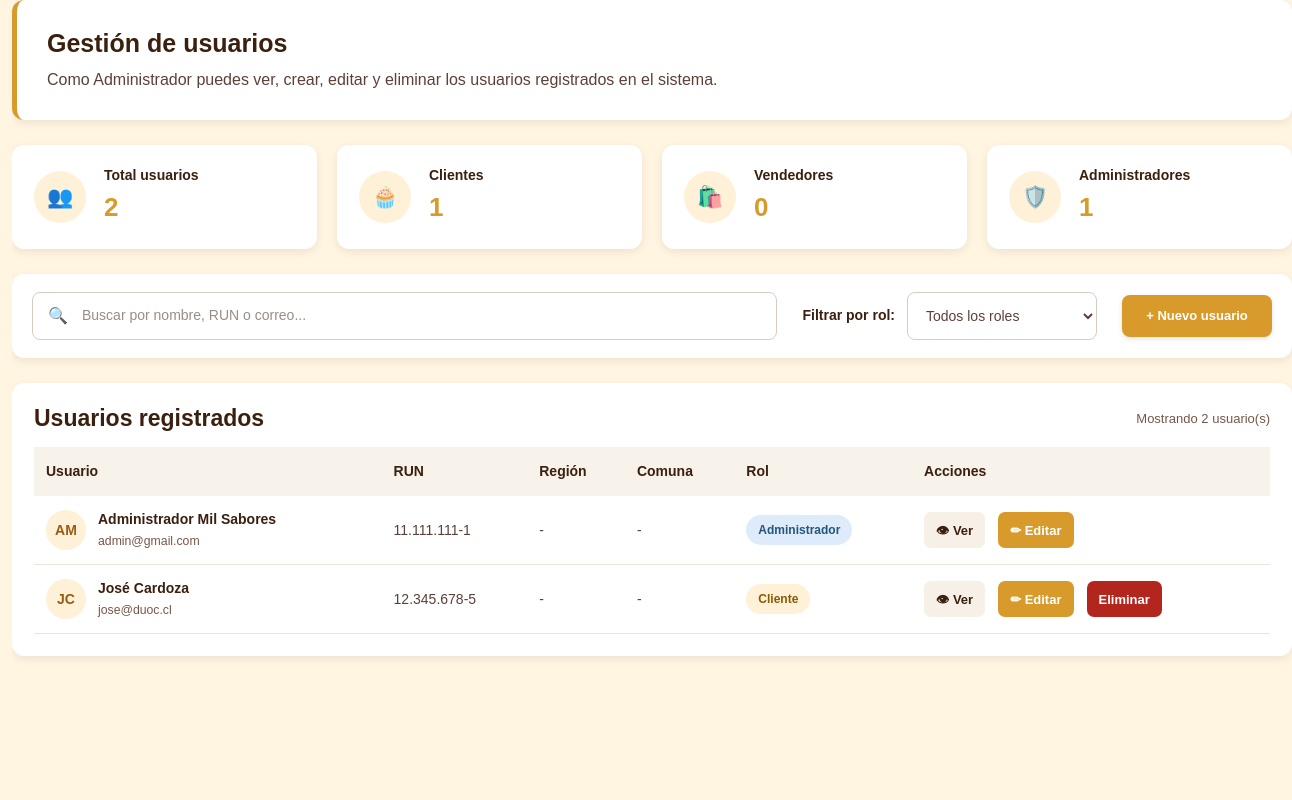
Scenario: S3-10 - Página UsuariosAdmin conectada a la API › si la API rechaza la eliminación (409) muestra el mensaje y no quita la fila
The image size is (1292, 800).
Check: the text "Mostrando 2 usuario(s)" is shown, box [1136,409,1270,428]
Click the button with aria-label "Eliminar a José Cardoza" at (1124, 599), box [1086,581,1162,617]
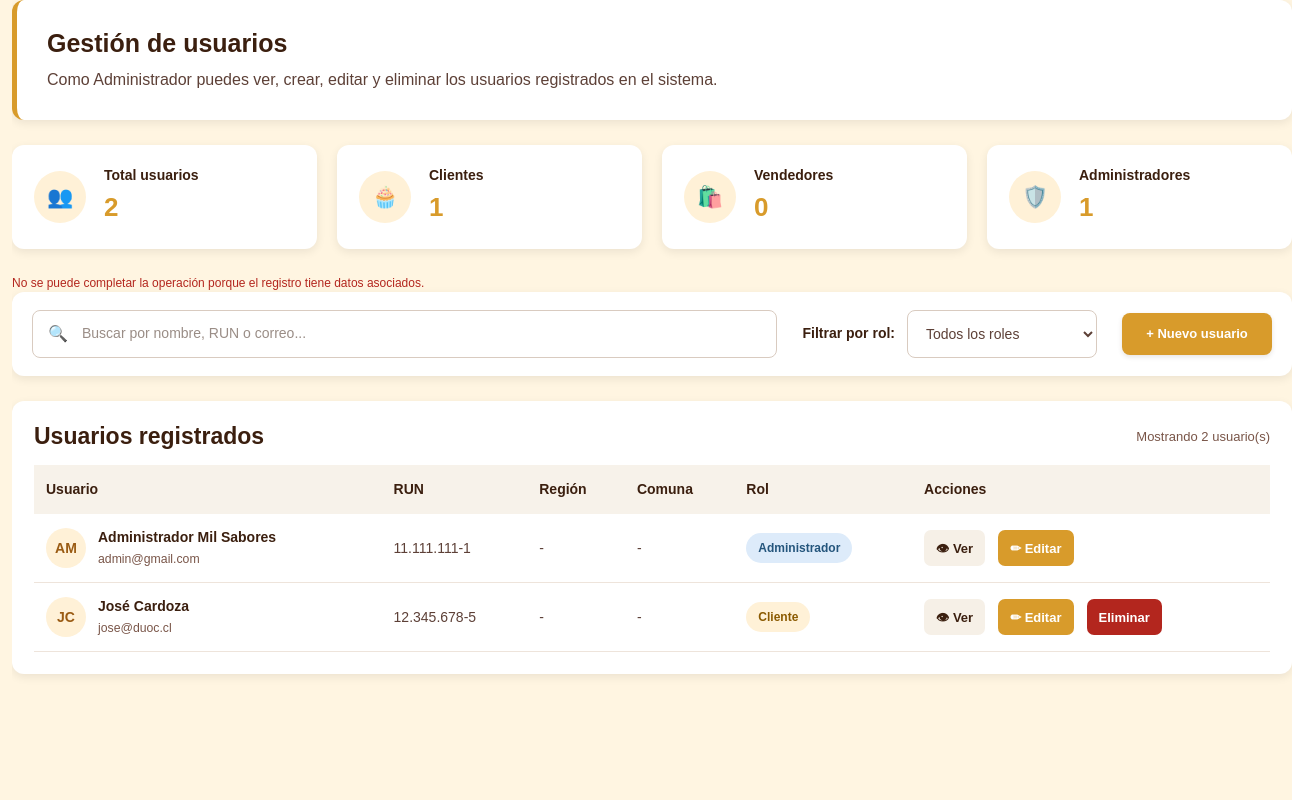
Check: the text "Mostrando 2 usuario(s)" is shown, box [1136,427,1270,446]
Check: the message shows "tiene datos asociados", box [12,276,424,290]
